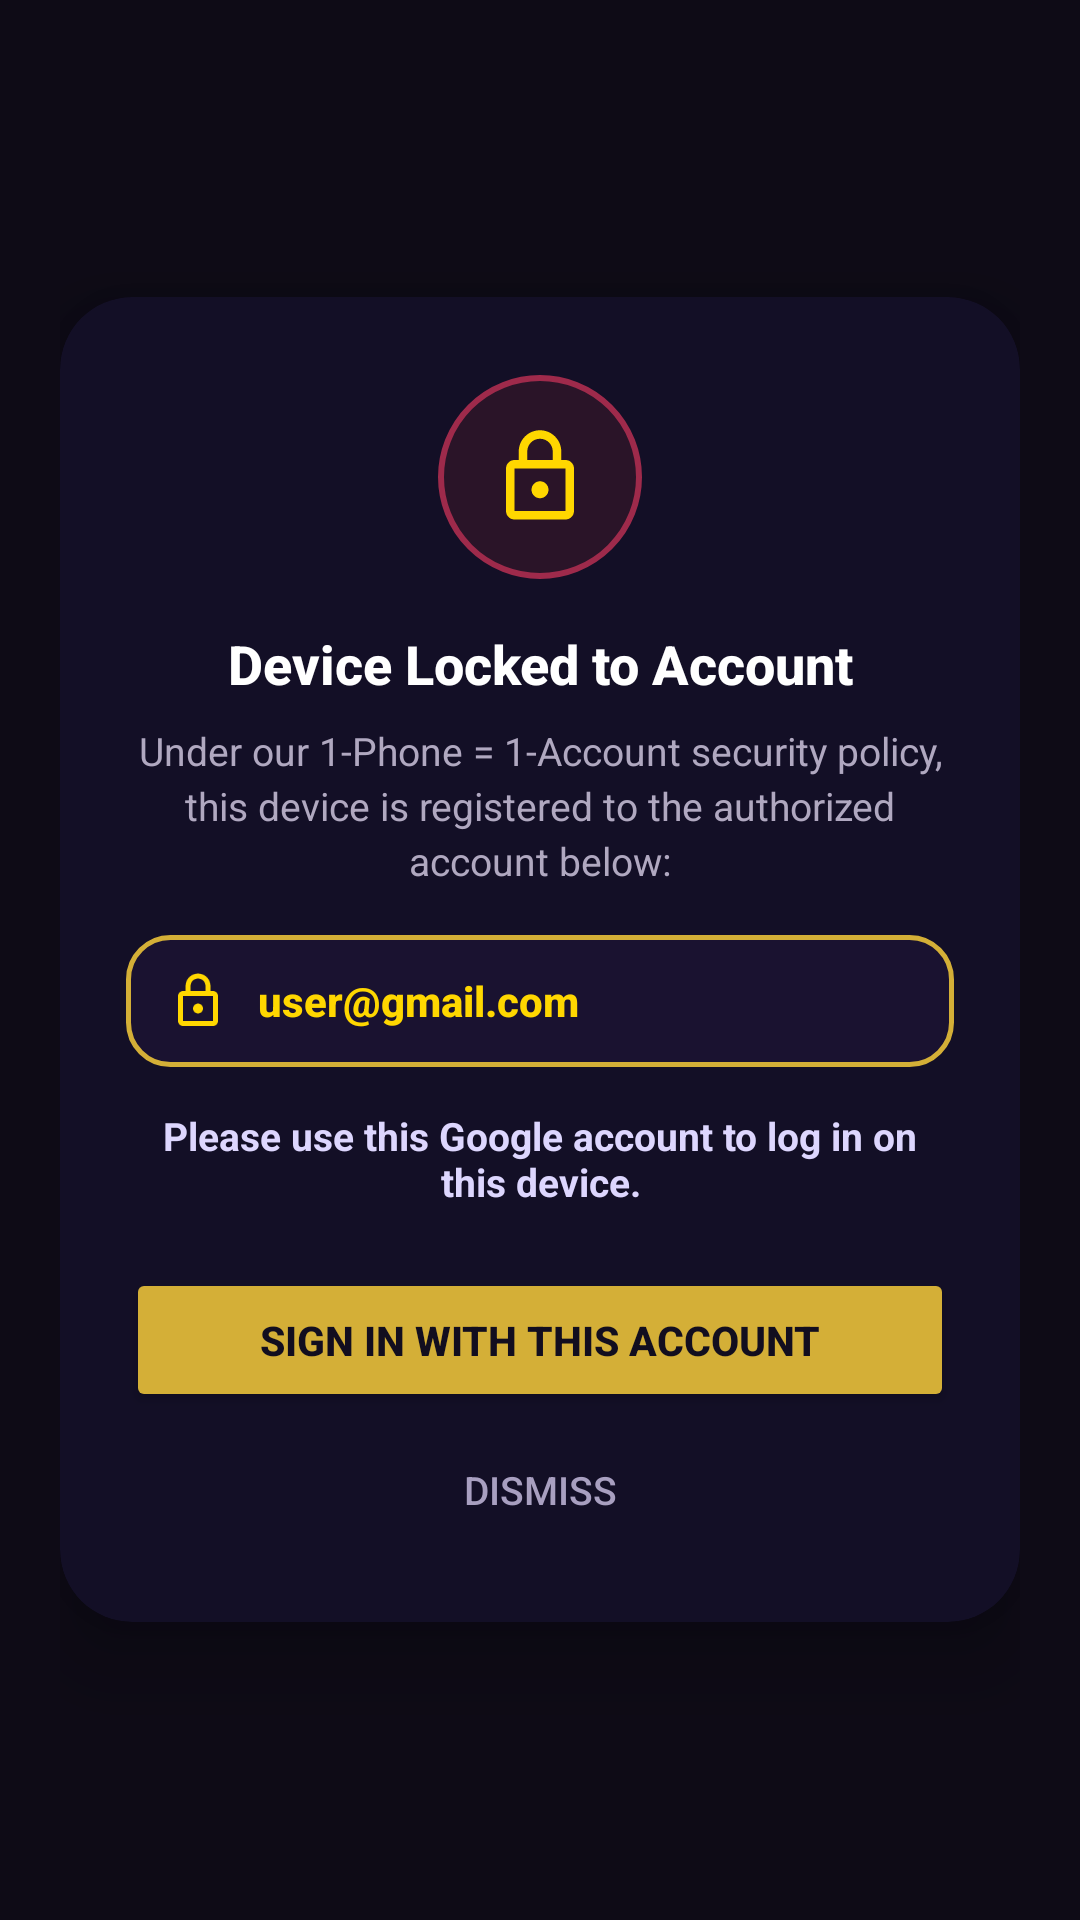

Where to tap for icons on this 1080w x 1920h app screen, as (x=x, y=y):
Device Lock Icon: (x=540, y=475)
